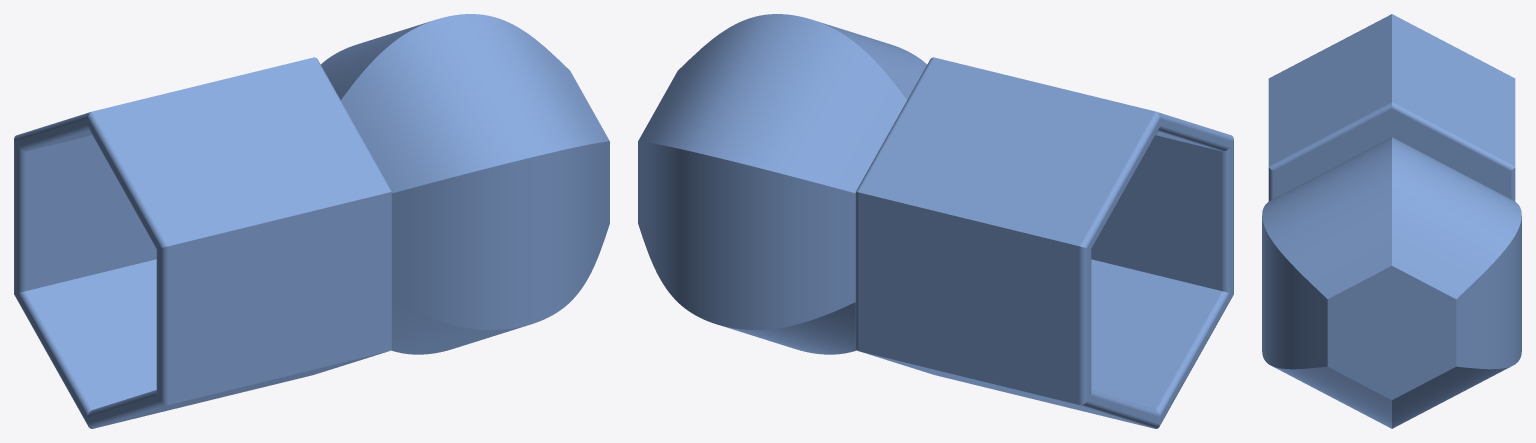
File: curtainrod-endcap-gltf.gltf
3 renders of one model, left to right at view 1: azimuth 30°, elevation 25°; view 2: azimuth 150°, elevation 25°; view 3: azimuth 270°, elevation 25°, orthographic. The views are drawn at different scales.
Visible parts, largest first — view 1: Part 4; view 2: Part 4; view 3: Part 4.
Part boxes in pixels (bbox=[...]): Part 4: bbox=[14, 14, 609, 428]; Part 4: bbox=[638, 14, 1233, 428]; Part 4: bbox=[1262, 14, 1521, 428].
Size of the model in its own units: 0.046 by 0.0304 by 0.0264.
